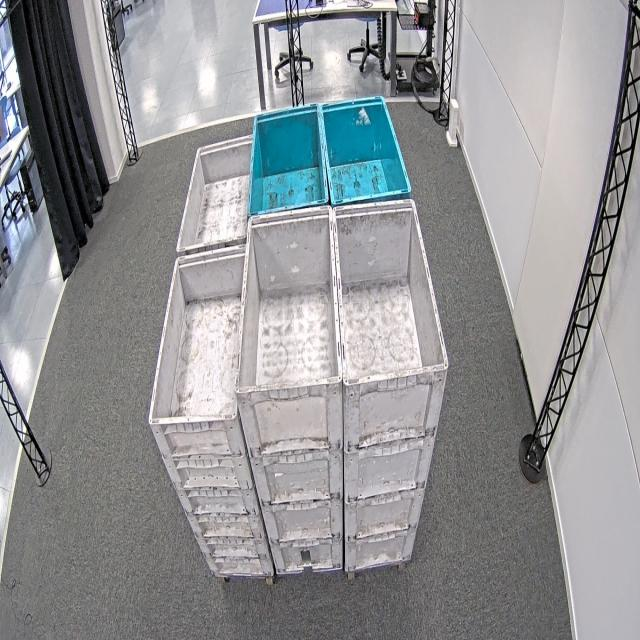Roll3G: (147, 242, 248, 426), (173, 132, 254, 254)
Roll4G: (330, 195, 451, 388), (234, 203, 344, 399)
RollB4: (319, 95, 414, 208), (246, 103, 331, 219)
